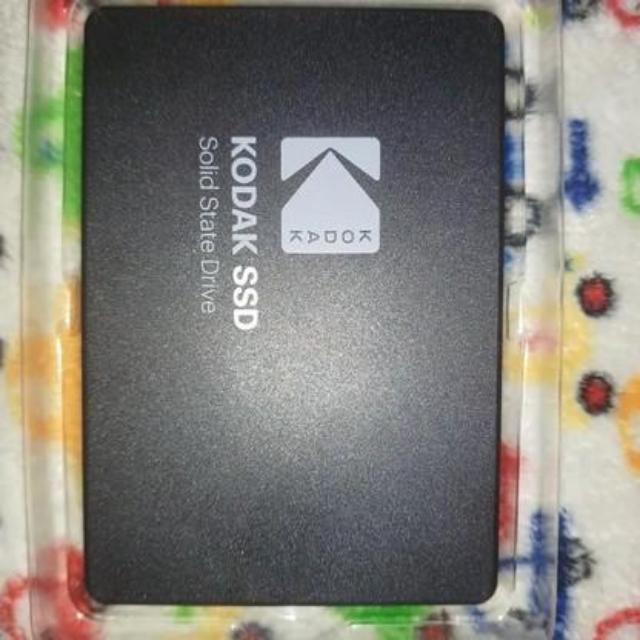DISK: (71, 2, 504, 612)
